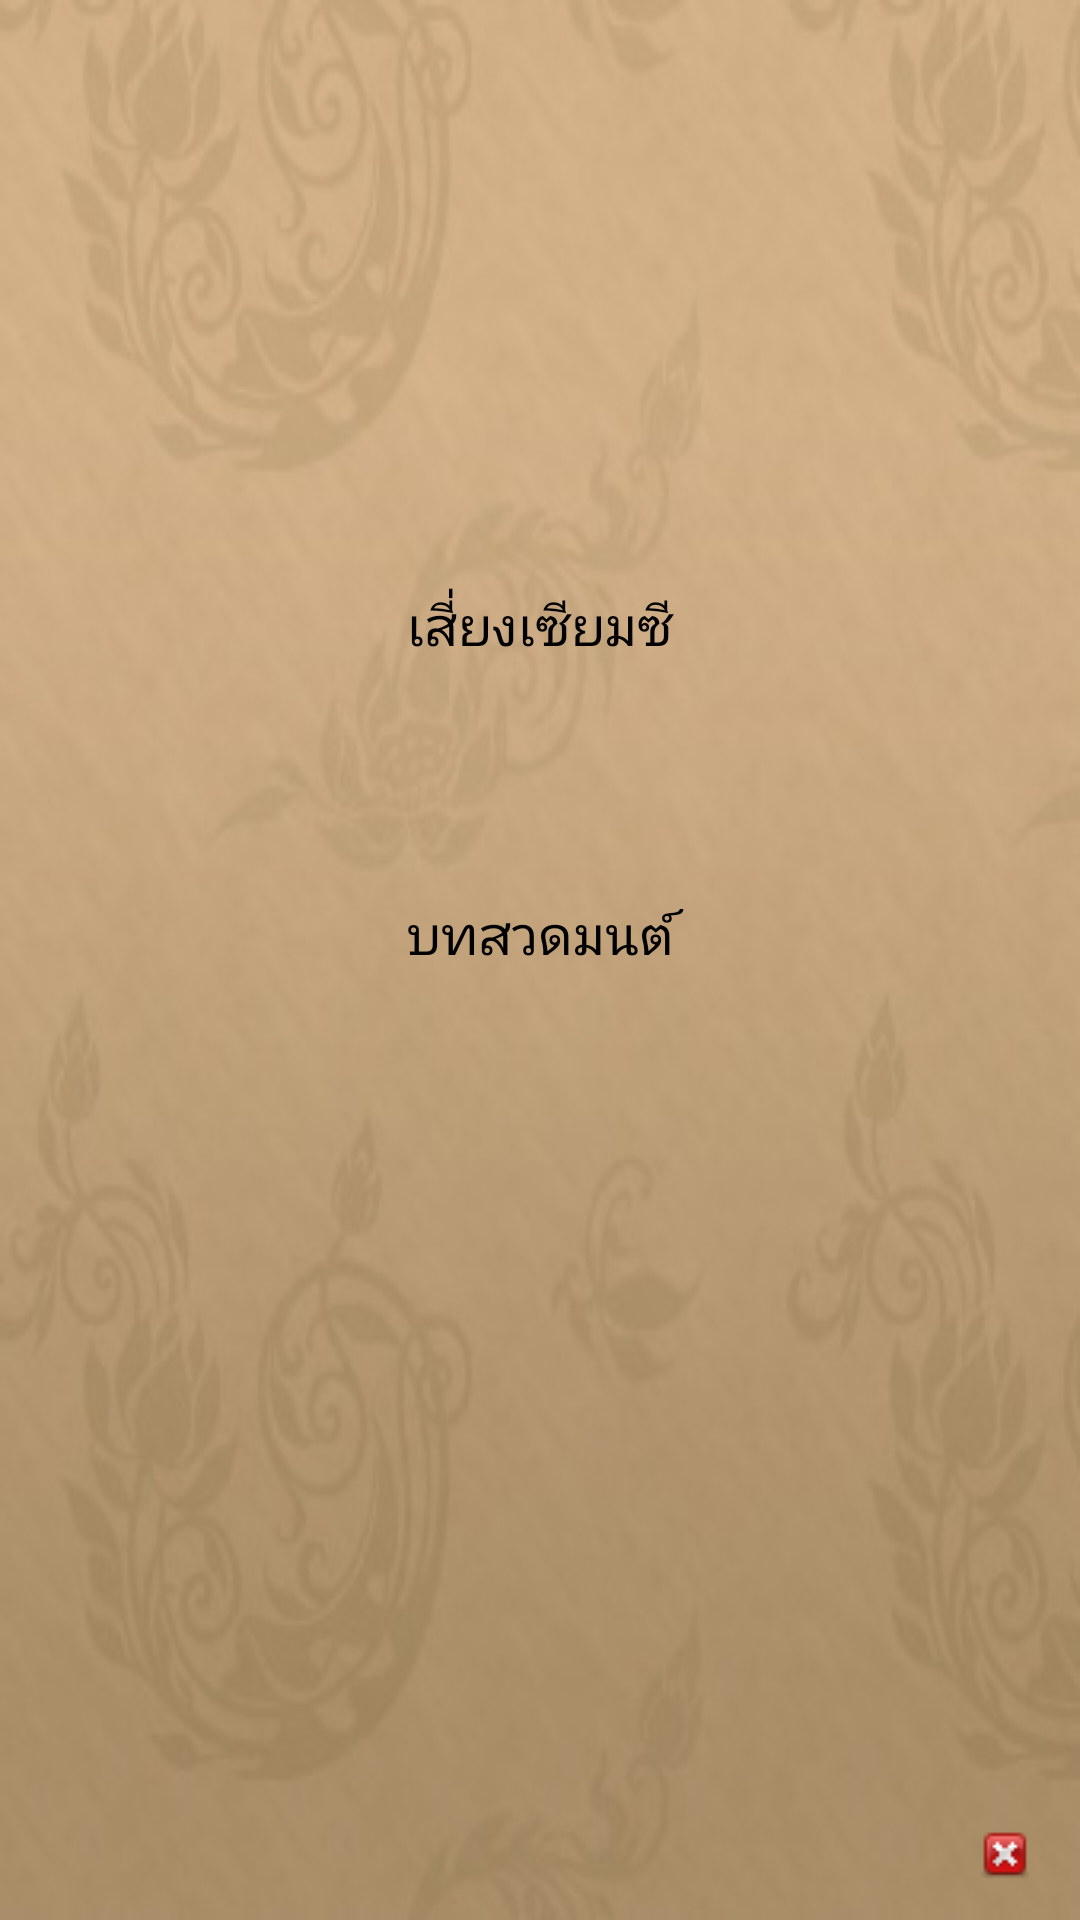

Locate icon controls on the screen. Image size 1080px x 1920px, boxes as (x1, y1, x2, y2).
exit: (983, 1832, 1027, 1876)
